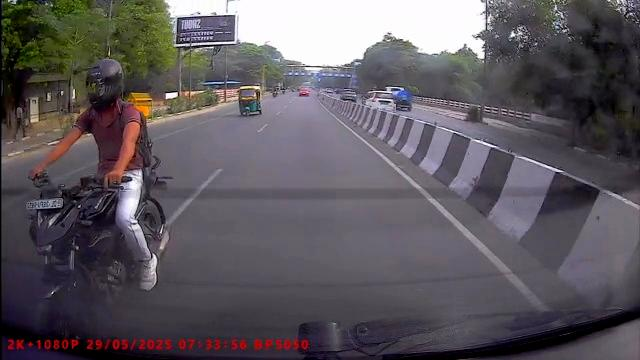motorcycle_with_helmet: (23, 56, 173, 338)
